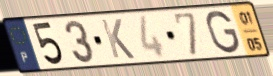3: (64, 19, 96, 65)
4: (140, 13, 169, 61)
5: (30, 21, 64, 67)
7: (171, 11, 201, 58)
G: (204, 9, 242, 56)
K: (99, 17, 137, 60)
